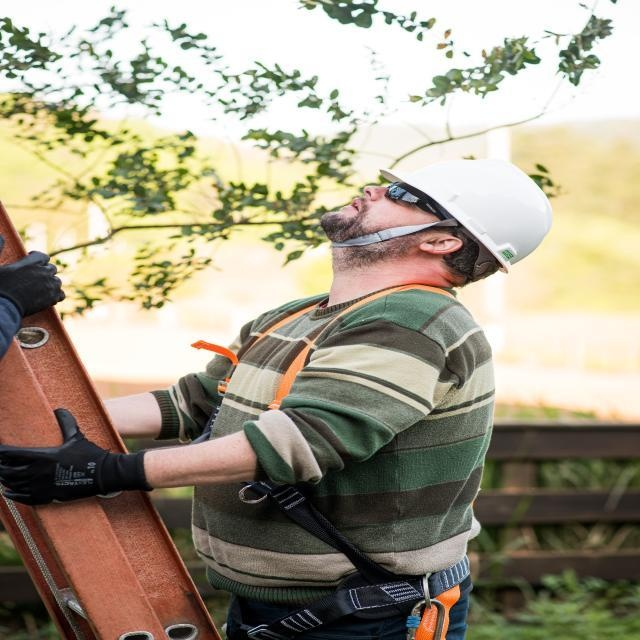Arnes_seguridad: (180, 283, 468, 640)
